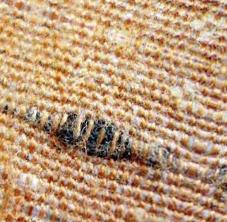slub: (0, 99, 173, 177)
